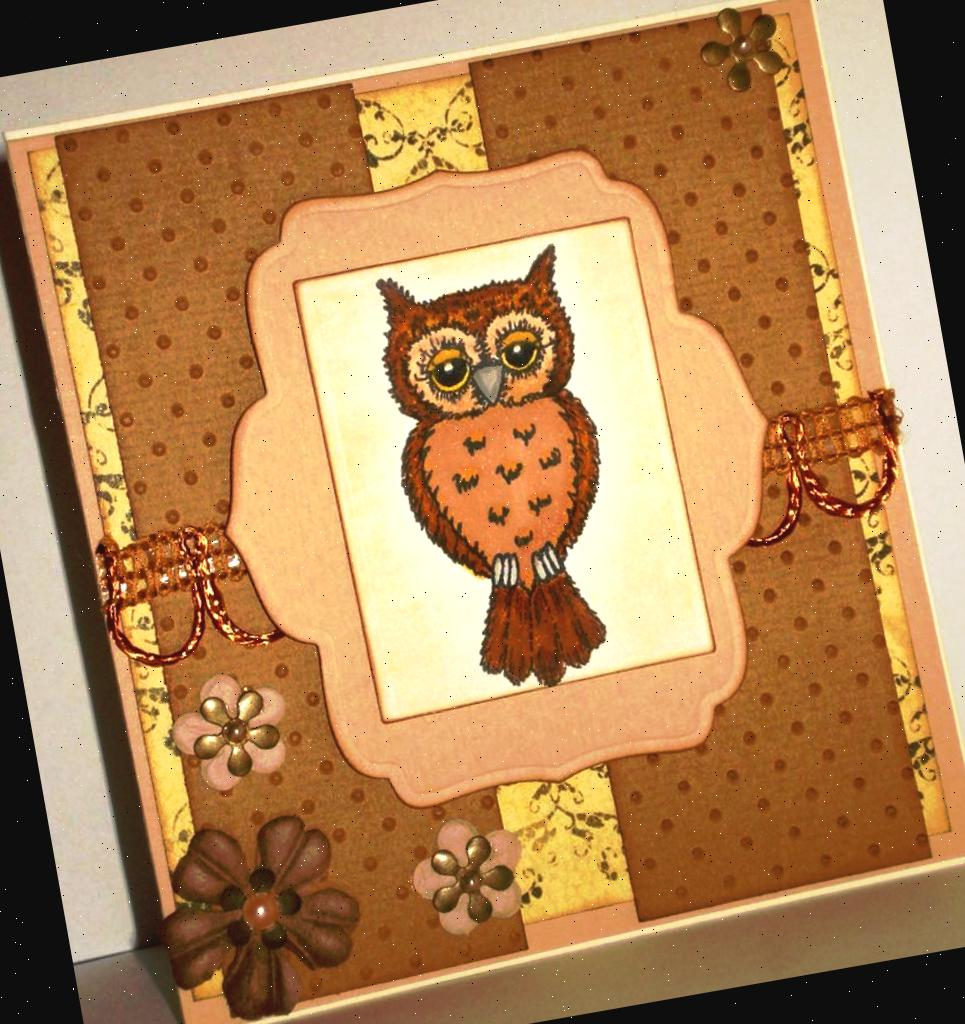Owl: (366, 248, 636, 702)
